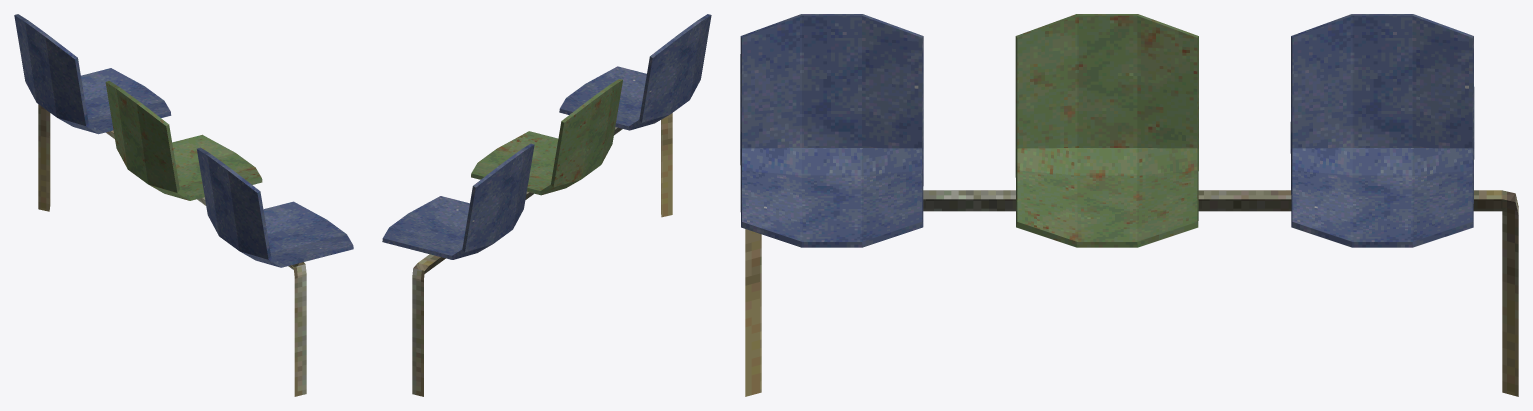
Rendered from busstop_three_seats_alt2.glb.
3 renders of one model, left to right at view 1: azimuth 30°, elevation 25°; view 2: azimuth 150°, elevation 25°; view 3: azimuth 270°, elevation 25°, orthographic. The views are drawn at different scales.
Visible parts, largest first — view 1: busstop_three_seats_alt2; view 2: busstop_three_seats_alt2; view 3: busstop_three_seats_alt2.
Part boxes in pixels (<box>): busstop_three_seats_alt2: <box>14,14,353,396</box>; busstop_three_seats_alt2: <box>382,14,711,396</box>; busstop_three_seats_alt2: <box>740,14,1518,396</box>.
Bounding box in the file's own units: 0.692 × 1.25 × 2.6.
1 material, 1 textured.
